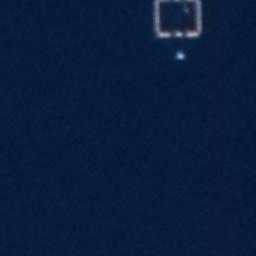square_solid: (147, 1, 207, 43)
